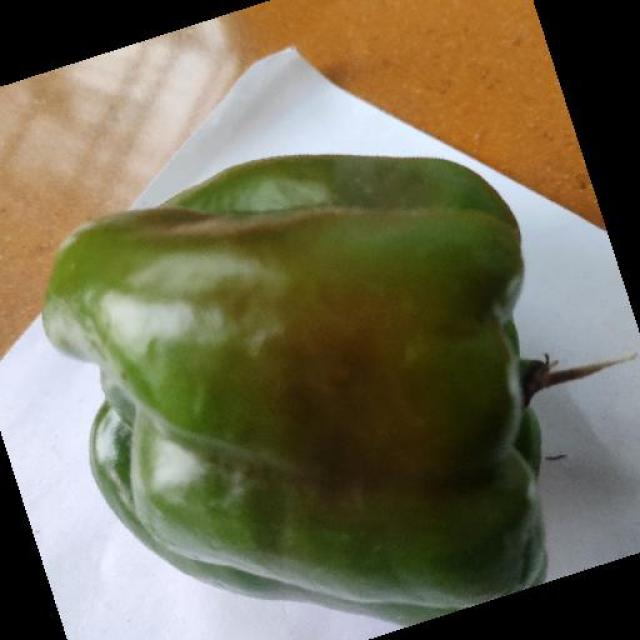Stale_Capsicum: (85, 142, 541, 605)
